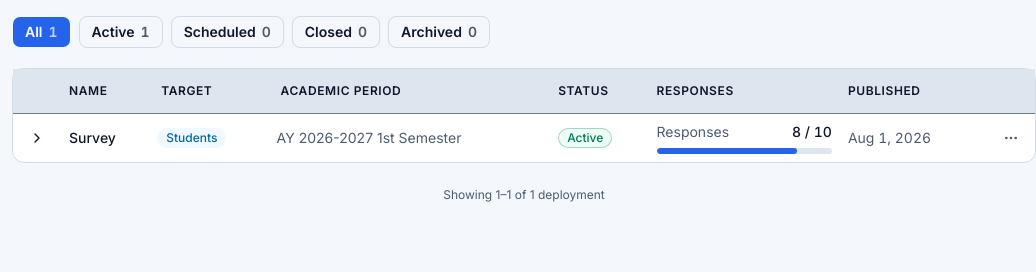
Test case: PublishedDeploymentsCollection › expands a row from its disclosure button
Click the button named "Expand Survey".
click(37, 138)  # box [21,122,53,154]
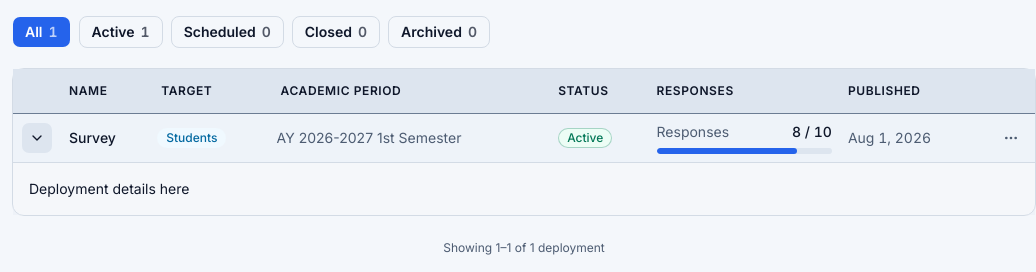
Check: the text "Deployment details here" is shown, box [29,180,189,196]
Check: the button named "Collapse Survey" is expanded, box [21,122,53,154]
